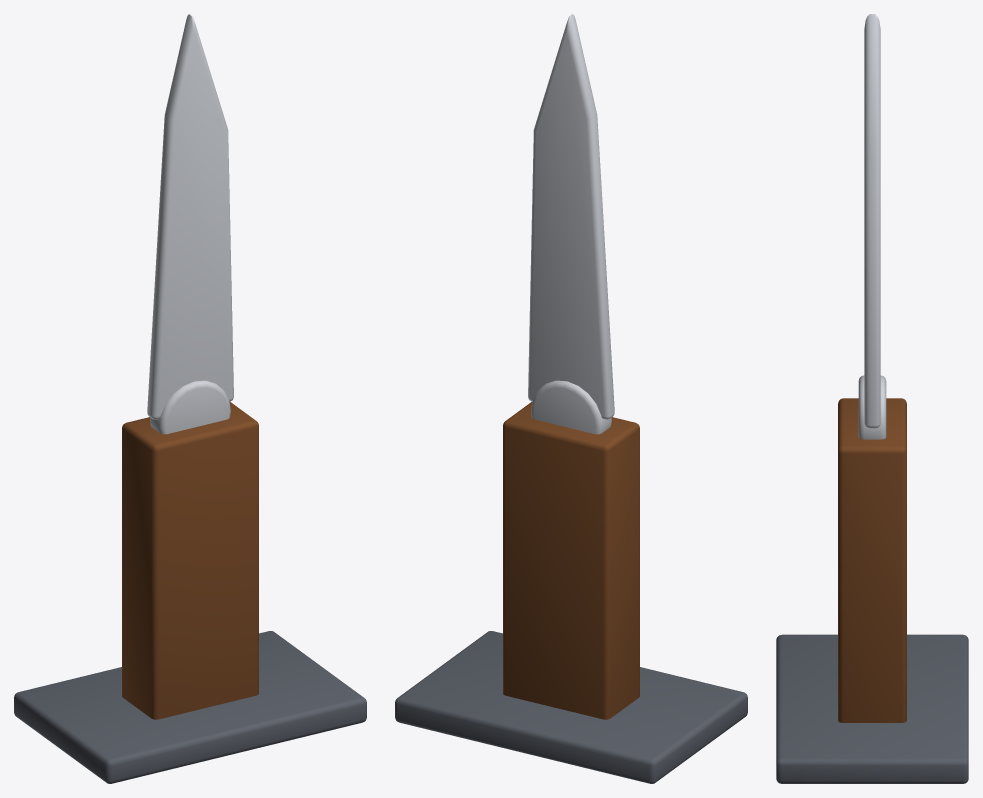
The model's file is canivete_aberto.glb.
3 renders of one model, left to right at view 1: azimuth 30°, elevation 25°; view 2: azimuth 150°, elevation 25°; view 3: azimuth 270°, elevation 25°, orthographic.
Parts seen in each view (by area): view 1: canivete_aberto; view 2: canivete_aberto; view 3: canivete_aberto.
Part boxes in pixels (x1=…): canivete_aberto: x1=14, y1=14, x2=366, y2=783; canivete_aberto: x1=395, y1=14, x2=747, y2=783; canivete_aberto: x1=776, y1=14, x2=968, y2=783.
Size of the model in its own units: 0.22 by 0.5675 by 0.14.
